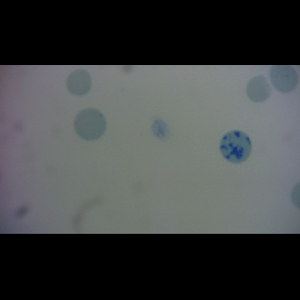aggregate reticulocyte: (218, 128, 253, 165)
erythrocyte: (245, 73, 274, 103)
punctate reticulocyte: (72, 106, 107, 141), (269, 64, 300, 94), (65, 68, 93, 97)
